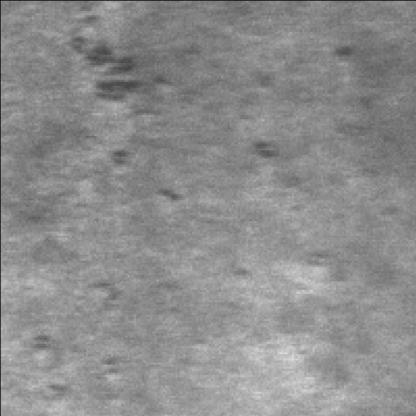rolled-in_scale: (68, 4, 166, 171), (31, 285, 121, 399)
